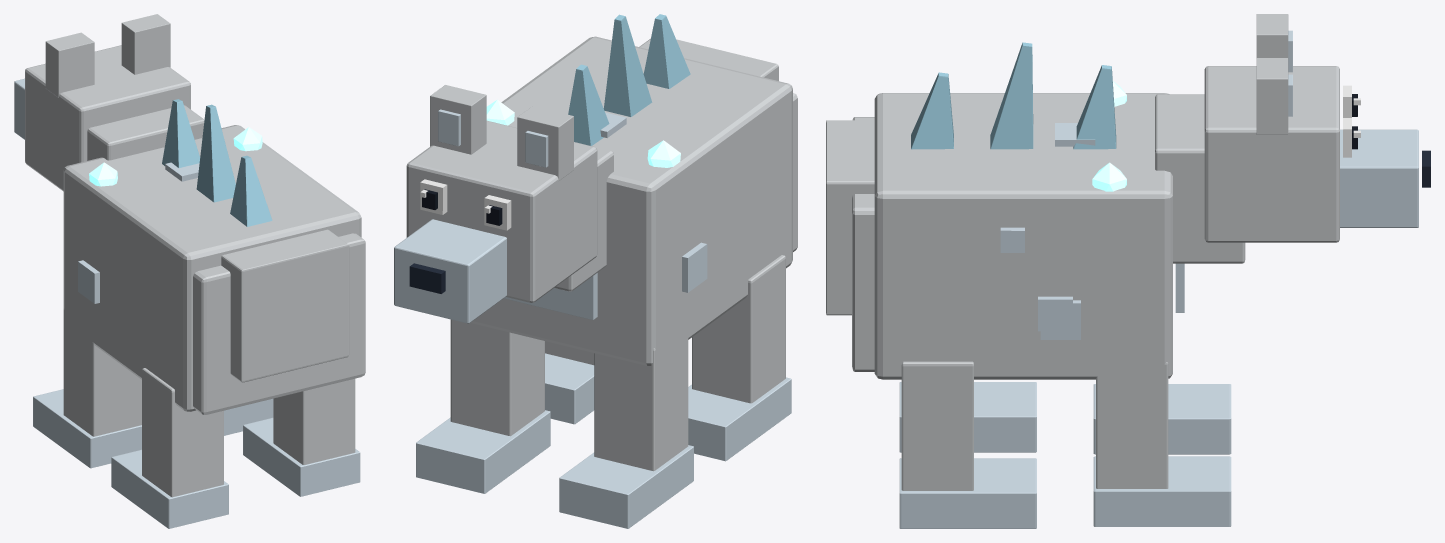
The model's file is polar-bear.glb.
3 renders of one model, left to right at view 1: azimuth 30°, elevation 25°; view 2: azimuth 150°, elevation 25°; view 3: azimuth 270°, elevation 25°, orthographic. The views are drawn at different scales.
Parts seen in each view (by area): view 1: body, tail, leg.BR, head, leg.FR, leg.BL, ear.R, ear.L, leg.FL; view 2: body, head, leg.FR, leg.FL, leg.BR, leg.BL, ear.R, ear.L, tail; view 3: body, head, leg.BL, leg.FL, tail, leg.FR, leg.BR, ear.L, ear.R.
Boxes of the visible parts, <box> form: body: <box>63,99,365,414</box>; tail: <box>221,229,349,382</box>; leg.BR: <box>111,368,228,528</box>; head: <box>14,45,190,191</box>; leg.FR: <box>33,308,141,468</box>; leg.BL: <box>243,378,360,496</box>; ear.R: <box>45,32,94,97</box>; ear.L: <box>121,14,170,74</box>; leg.FL: <box>224,398,273,435</box>; body: <box>470,14,797,365</box>; head: <box>394,120,597,323</box>; leg.FR: <box>559,326,693,528</box>; leg.FL: <box>416,319,550,493</box>; leg.BR: <box>688,255,791,461</box>; leg.BL: <box>545,341,594,424</box>; ear.R: <box>517,106,573,180</box>; ear.L: <box>430,85,486,154</box>; tail: <box>639,38,778,80</box>; body: <box>852,42,1245,379</box>; head: <box>1204,66,1430,242</box>; leg.BL: <box>899,361,1036,528</box>; leg.FL: <box>1093,362,1231,526</box>; tail: <box>826,120,874,315</box>; leg.FR: <box>1093,384,1231,454</box>; leg.BR: <box>899,382,1036,452</box>; ear.L: <box>1256,58,1292,134</box>; ear.R: <box>1256,14,1292,72</box>.
Bounding box in the file's own units: 0.5569 × 1 × 1.28.
